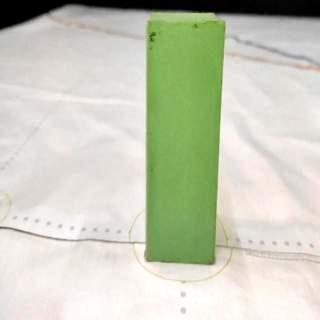greenbox: (138, 14, 230, 265)
